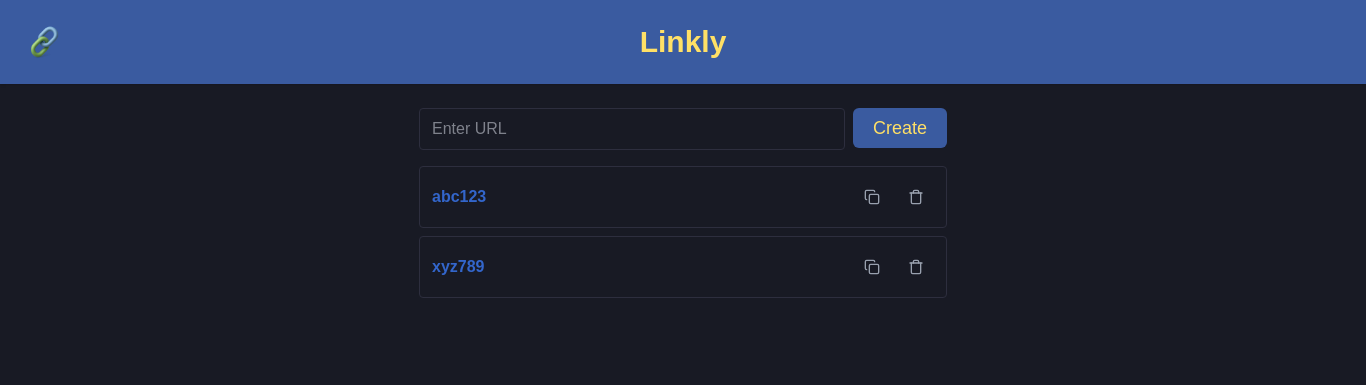
URL Shortener (Mockade API-anrop) › should create a new short link
This screenshot has width=1366, height=385.
In the field with placeholder "Enter URL": (632, 129) [419, 108, 845, 150], type "https://example.com/new"
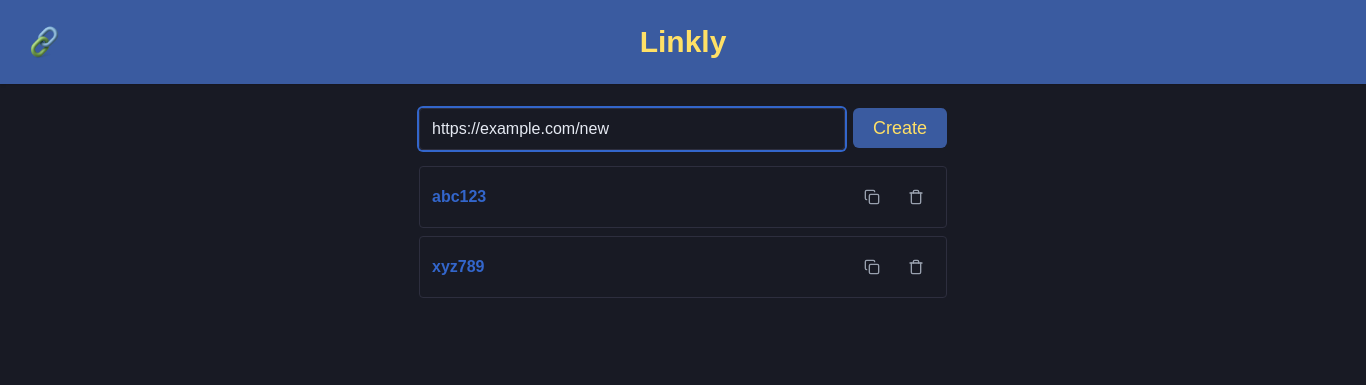
Click the button "Create": (900, 128) [853, 108, 947, 148]
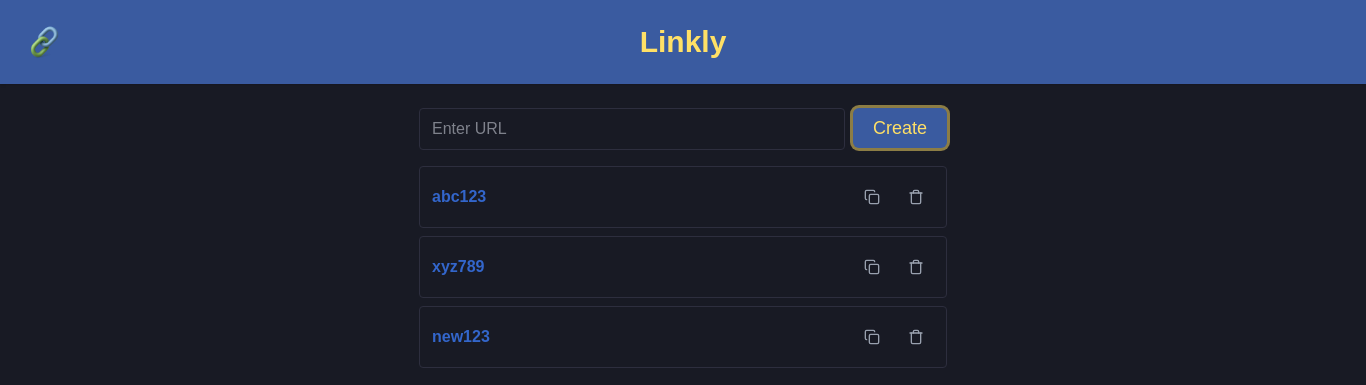
Result: the number of list items is 3 at [419, 166, 947, 228]; [419, 236, 947, 298]; [419, 306, 947, 368]
Result: the link "new123" is shown at [432, 325, 490, 349]
